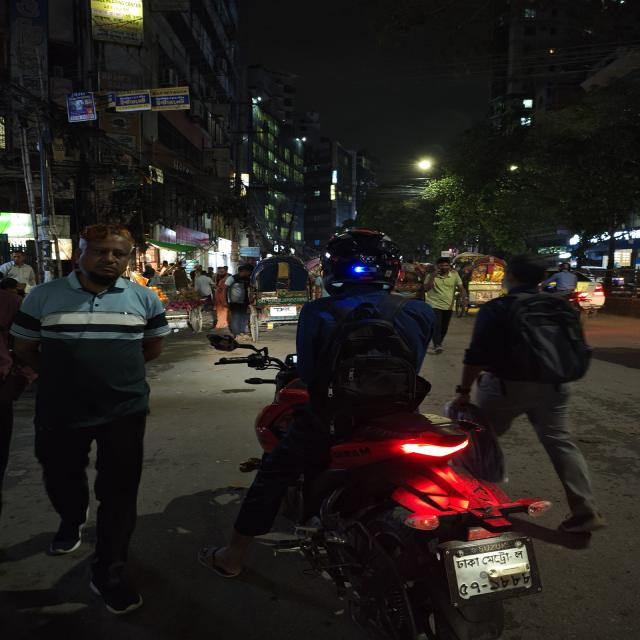motorcycle: (225, 346, 548, 640), (545, 264, 610, 316)
pedestrian: (7, 227, 171, 586), (417, 260, 461, 350), (208, 264, 250, 346), (204, 265, 233, 332), (191, 265, 215, 332)
rickshaw: (245, 250, 315, 334), (450, 252, 513, 317)
